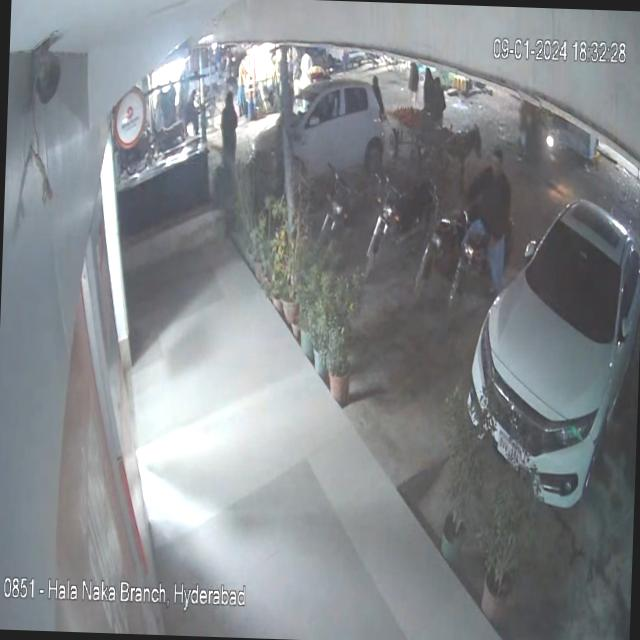Car: (463, 177, 640, 528), (248, 77, 404, 202)
Motorcycle: (367, 161, 441, 289), (442, 203, 506, 331), (308, 151, 381, 262), (412, 201, 452, 312)
